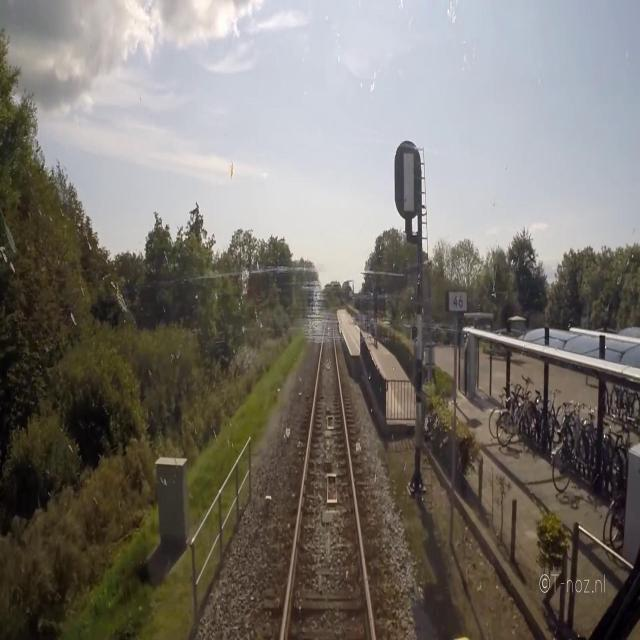rail-track: (284, 311, 371, 639)
